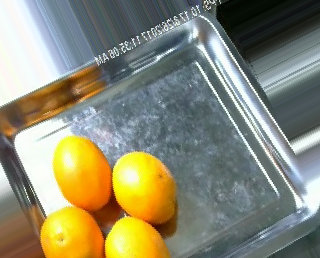Orange: (112, 151, 178, 223), (52, 136, 111, 211), (40, 208, 103, 258)
